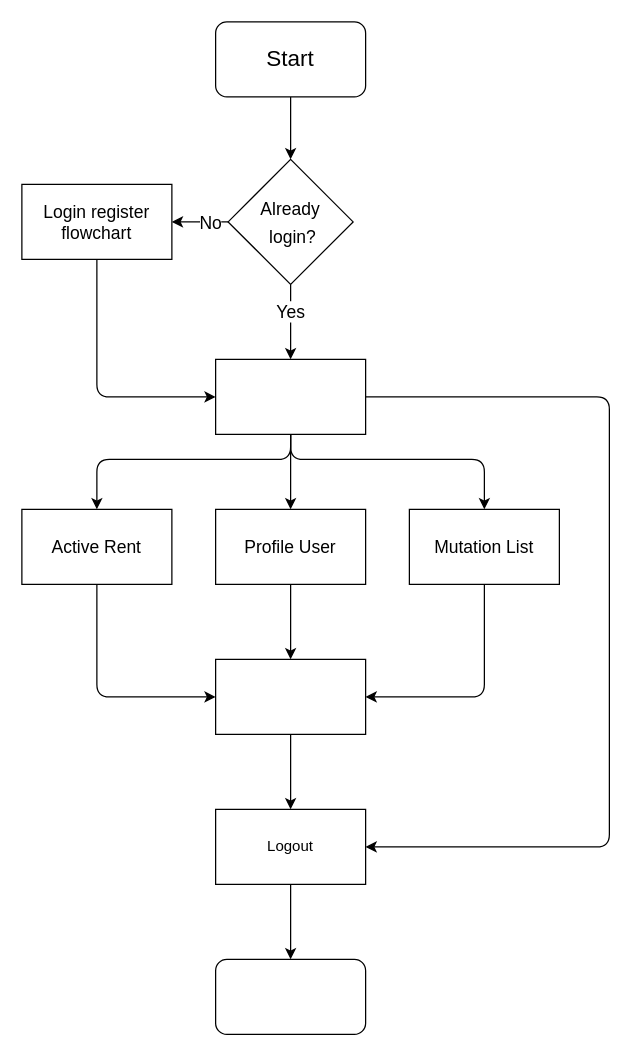
Some shapes in this 641 by 1056 pixel diagram are drawn without their labels. The box of each missing label's shape, as (x1, y1, x2, y2) in pixels:
Action: (214, 658, 366, 734)
Dashboard: (214, 358, 366, 434)
End: (214, 958, 366, 1034)
